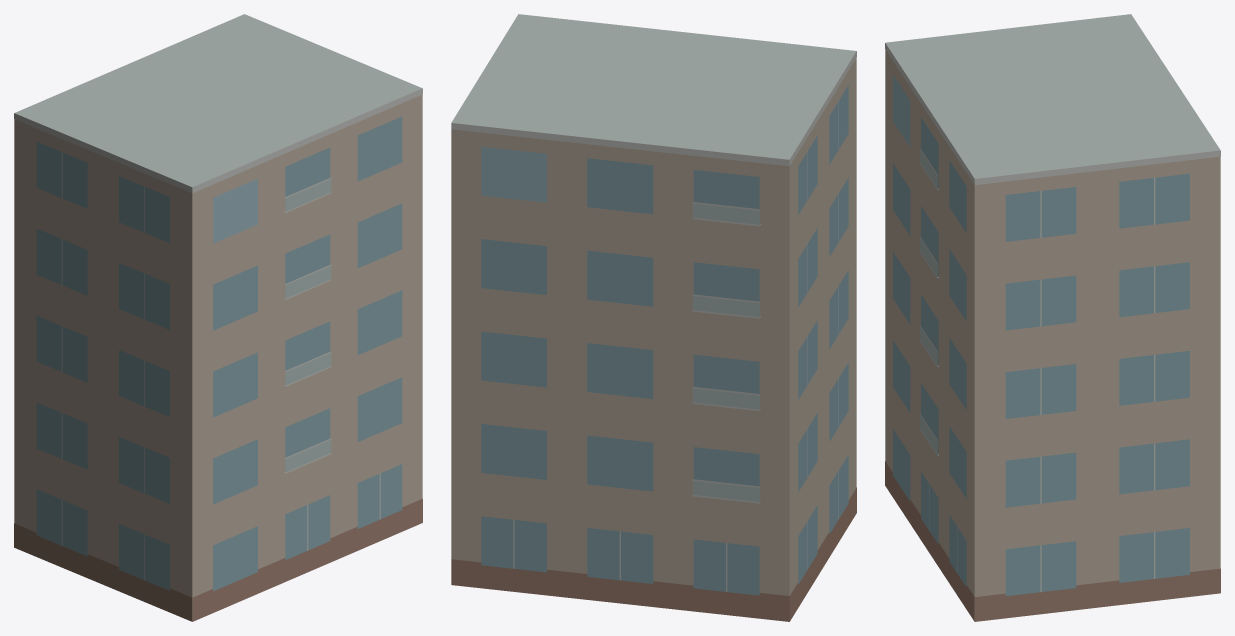
Rendered from survey-upis-32845814.glb.
The picture shows the model from 3 angles, left to right: view 1: azimuth 30°, elevation 25°; view 2: azimuth 150°, elevation 25°; view 3: azimuth 270°, elevation 25°; orthographic projection. The views are drawn at different scales.
Parts seen in each view (by area): view 1: survey-upis-32845814.tmp; view 2: survey-upis-32845814.tmp; view 3: survey-upis-32845814.tmp.
Part boxes in pixels (x1,y1,x2,y2): survey-upis-32845814.tmp: (14,14,422,621); survey-upis-32845814.tmp: (451,14,856,621); survey-upis-32845814.tmp: (885,14,1220,621).
Bounding box in the file's own units: 14.07 × 17.6 × 12.1.
